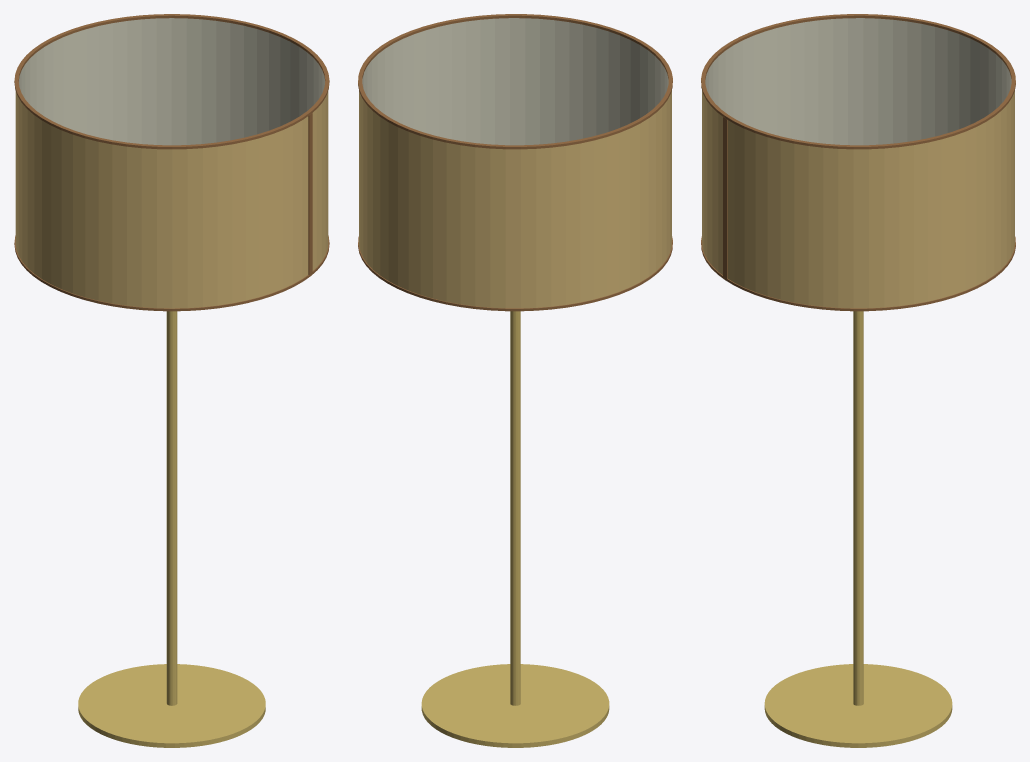
The model's file is lamp_1.glb.
The picture shows the model from 3 angles, left to right: view 1: azimuth 30°, elevation 25°; view 2: azimuth 150°, elevation 25°; view 3: azimuth 270°, elevation 25°; orthographic projection.
Visible parts, largest first — view 1: Mesh_Mesh_head_geo.001_lambert2SG.001; view 2: Mesh_Mesh_head_geo.001_lambert2SG.001; view 3: Mesh_Mesh_head_geo.001_lambert2SG.001.
Boxes of the visible parts, bbox=[...] form: Mesh_Mesh_head_geo.001_lambert2SG.001: bbox=[14, 14, 329, 747]; Mesh_Mesh_head_geo.001_lambert2SG.001: bbox=[358, 14, 672, 747]; Mesh_Mesh_head_geo.001_lambert2SG.001: bbox=[701, 14, 1015, 747].
Bounding box in the file's own units: 30 × 66 × 30.
